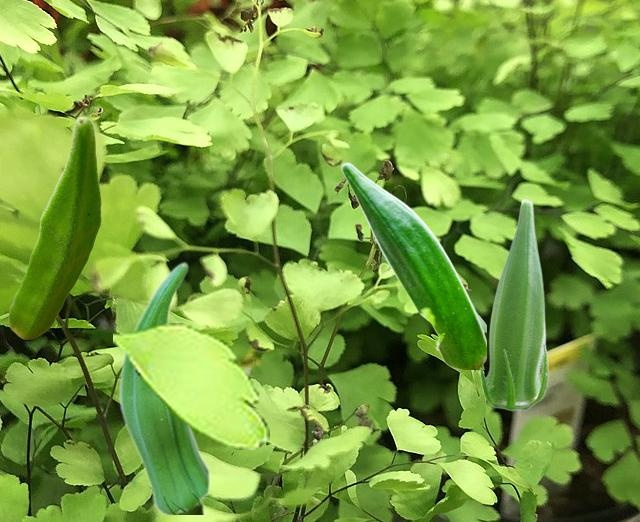okra: (340, 162, 485, 368), (118, 261, 208, 513), (8, 116, 100, 338), (479, 198, 548, 410)
